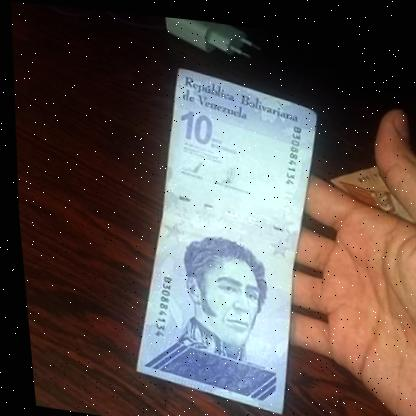ten-front-vef: (105, 54, 340, 416)
